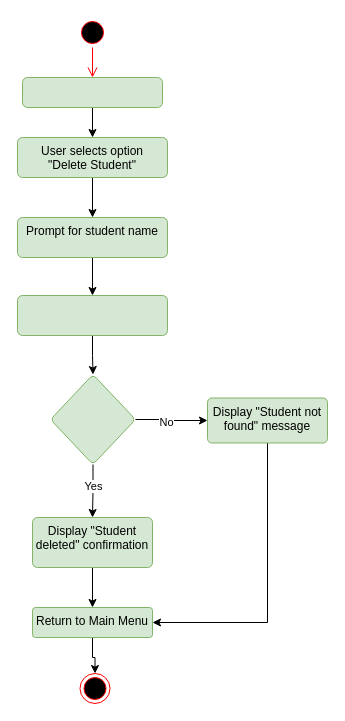
Image size: 345x721. Some labels were removed from this diagram. Here are the shapes that lost their labels. From the top down, the box of each, then its label:
(22, 76, 162, 108): Display Main Menu
(16, 294, 168, 336): Search for student record (via Result/FileHandler)
(50, 374, 136, 464): Is the student found?
